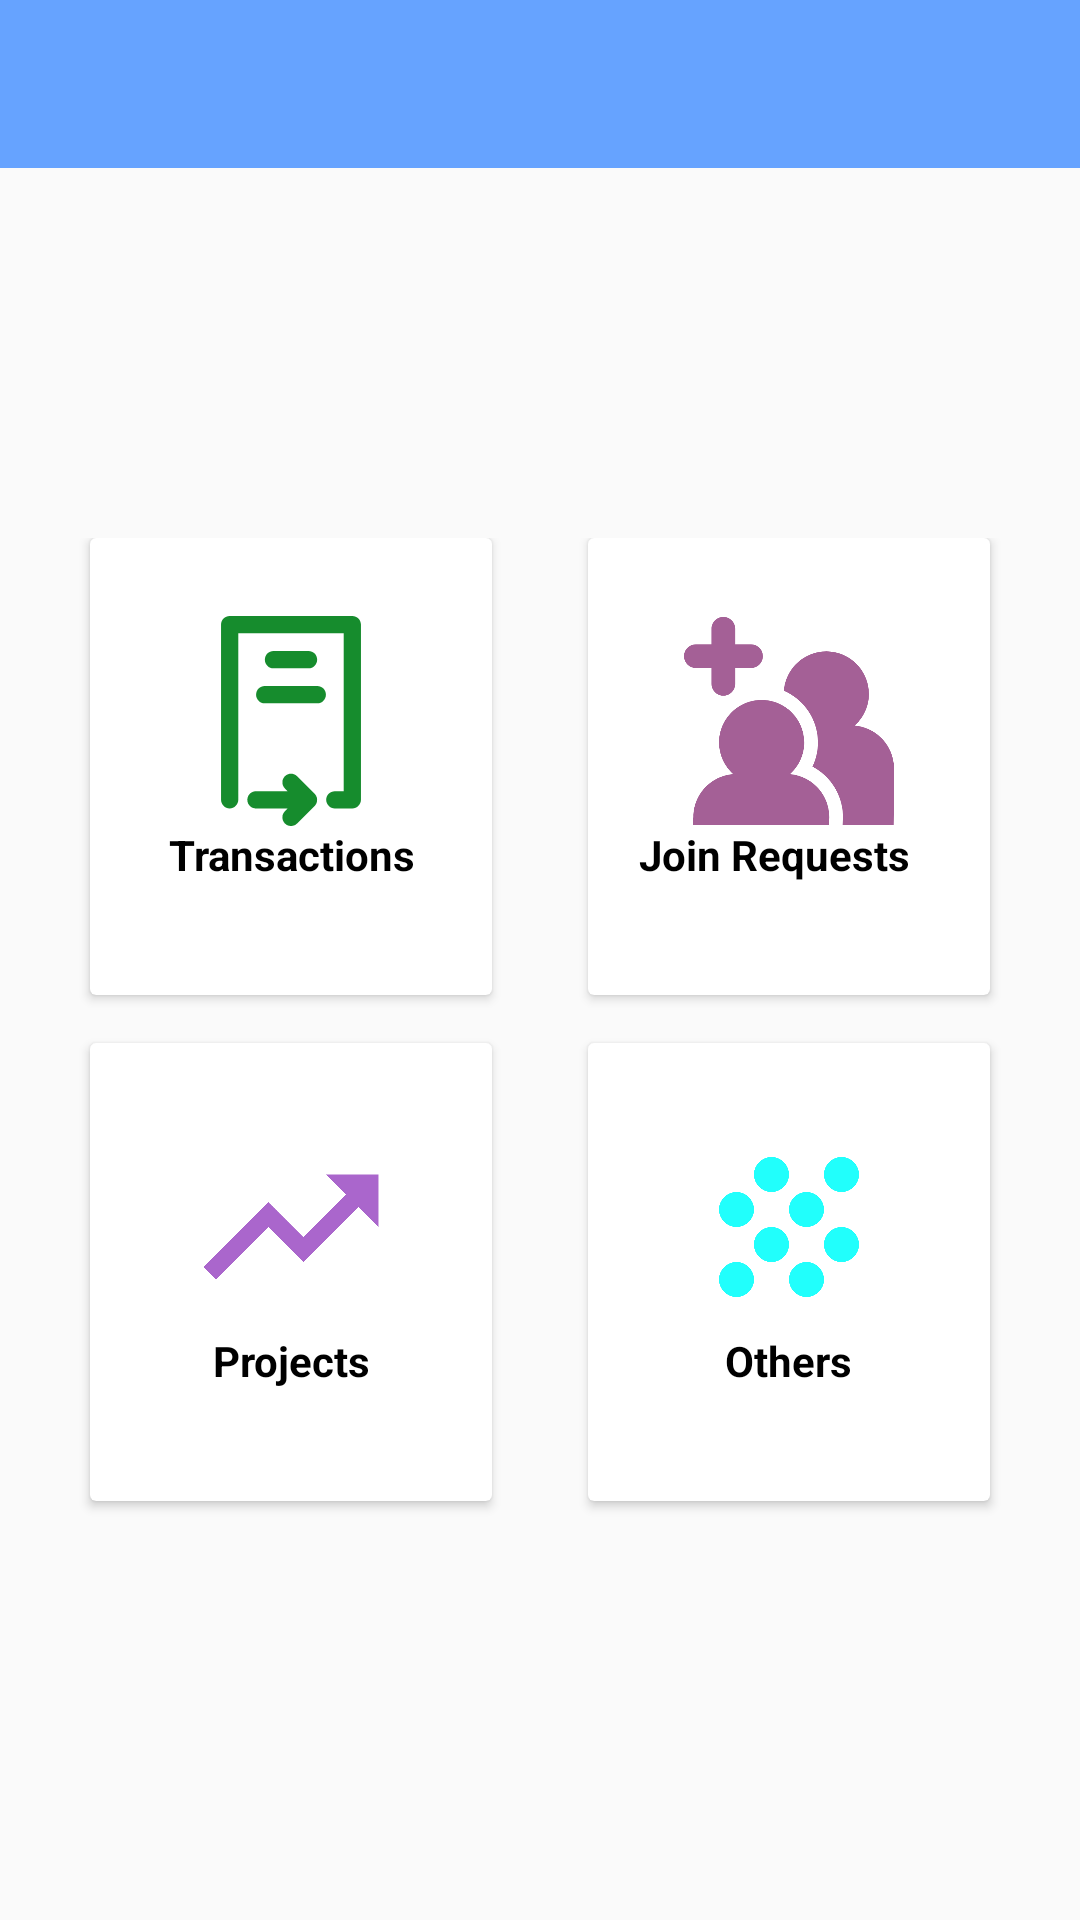

Icons on this 1080w x 1920h Android screen, each with the point to tap as point (x, y):
add to group: point (789, 721)
